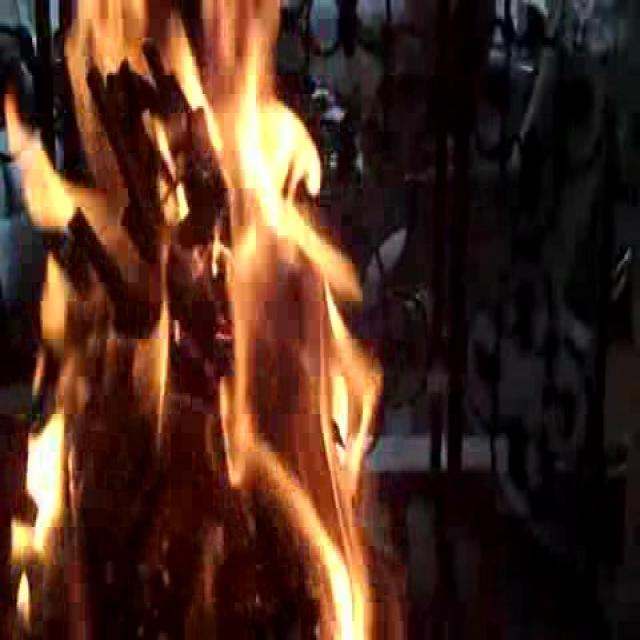fire: (31, 5, 369, 639)
